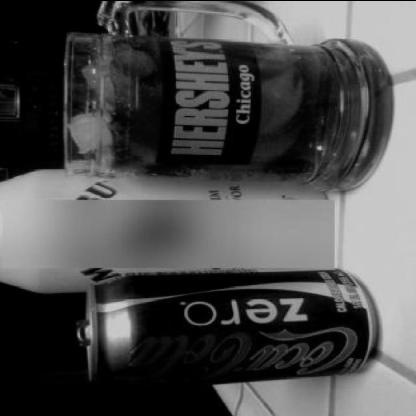alumunium_can: (74, 267, 384, 389)
objects: (60, 0, 392, 188)
